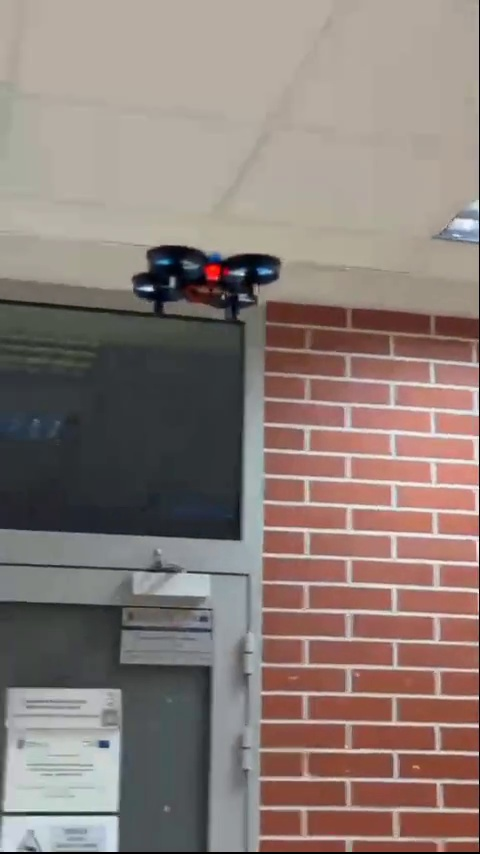drone: (128, 243, 284, 322)
